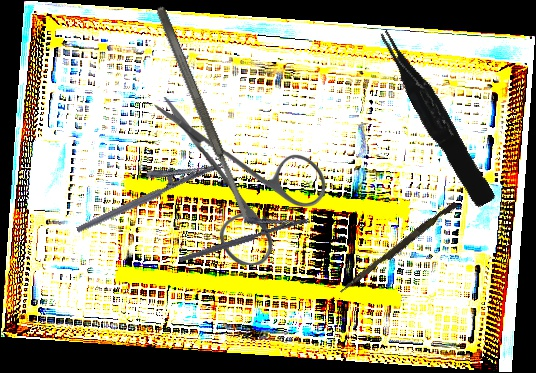Iris Scissors: (154, 94, 327, 267)
Needle Holder: (66, 141, 225, 235), (173, 199, 311, 264)
Pusher: (339, 198, 458, 298)
Spatula Surgical: (153, 4, 254, 227)
Tissue Forceps: (375, 21, 497, 213)
